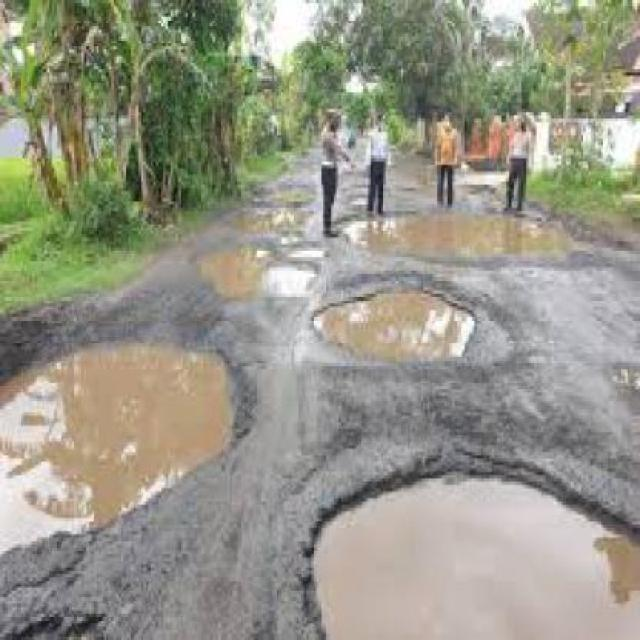pothole: (292, 429, 638, 637), (0, 316, 257, 561), (305, 261, 477, 365)
